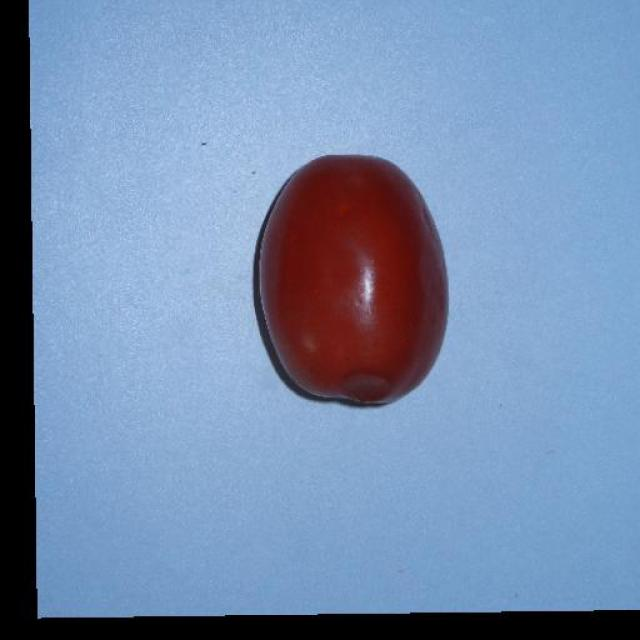Stale_tomato: (261, 156, 454, 410)
